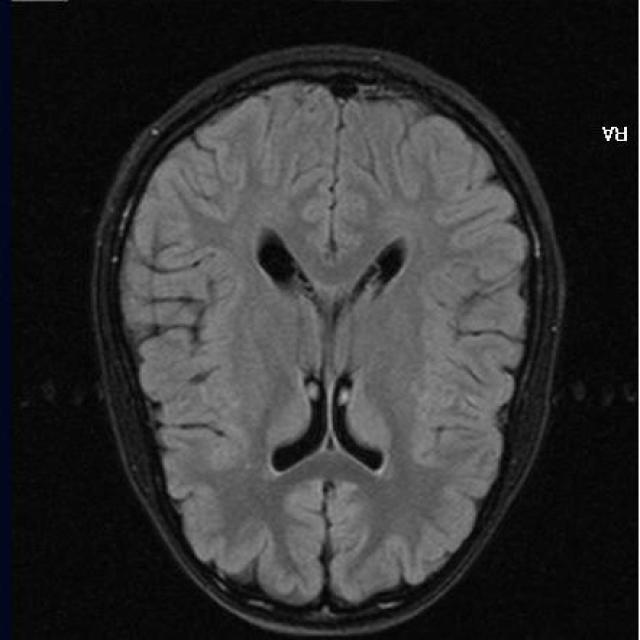notumor: (94, 47, 563, 636)
